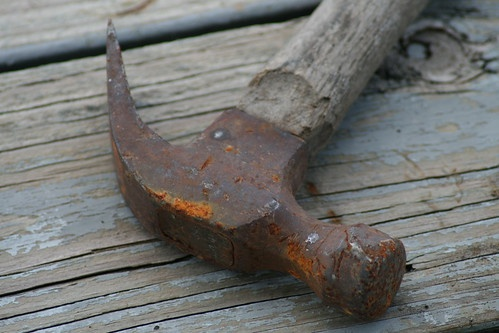hammer: (104, 1, 425, 324)
